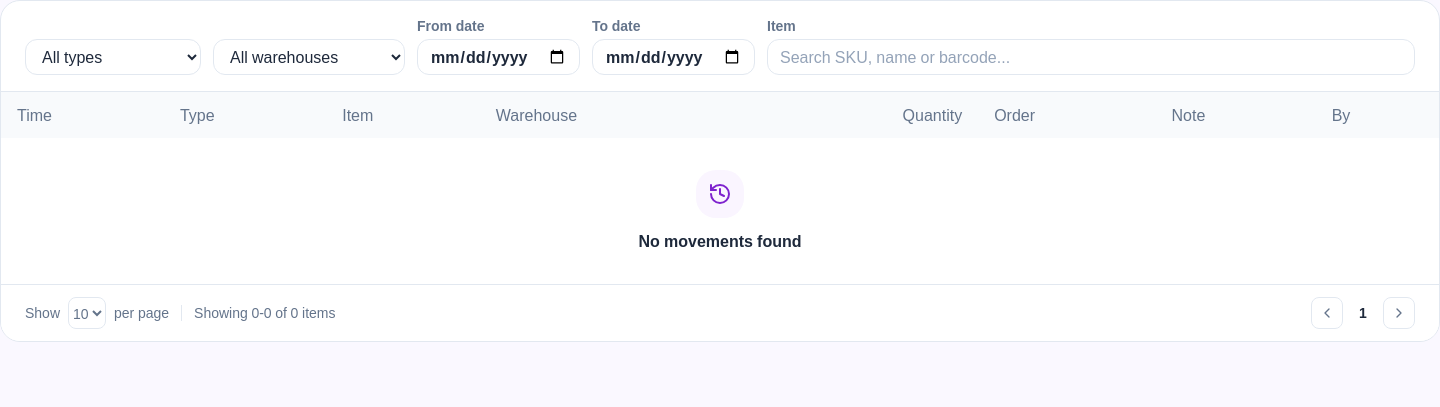
Test: StockMovements › ວ່າງ ແລະ ບໍ່ມີ filter: 'ບໍ່ພົບການເຄື່ອນໄຫວ' ບໍ່ມີປຸ່ມລ້າງ; ມີ filter: ມີປຸ່ມລ້າງທີ່ລ້າງທັນທີ
expect the text "No movements found" is shown: met, box x1=638 y1=230 x2=802 y2=252
expect the button "Clear search" is not shown: met
Select "Ship" in the dropdown named "Type" at (113, 57), box x1=25 y1=39 x2=201 y2=75
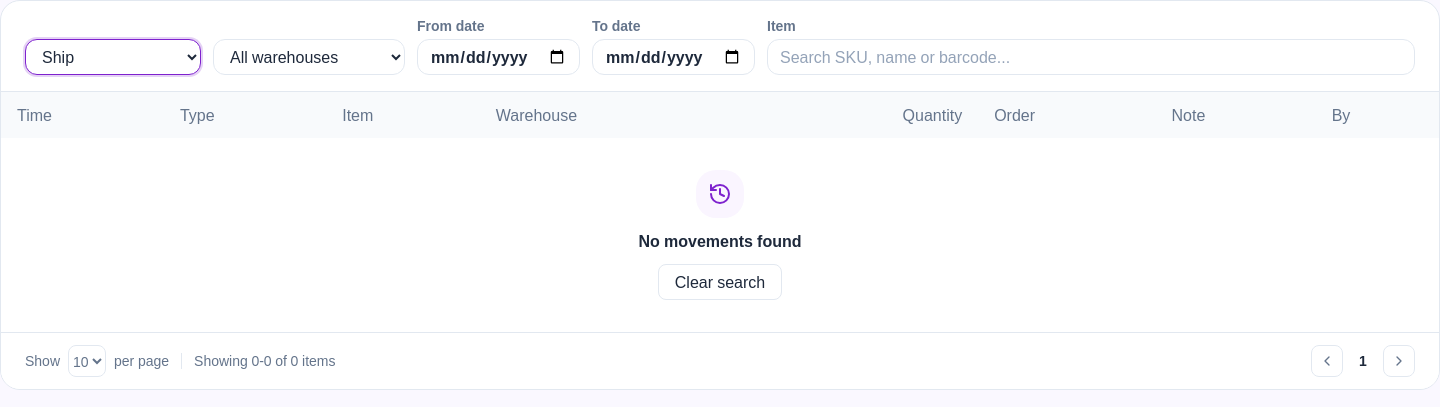
Type "2026-10-01" into the date field labelled "From date" at (498, 57), box x1=417 y1=39 x2=580 y2=75
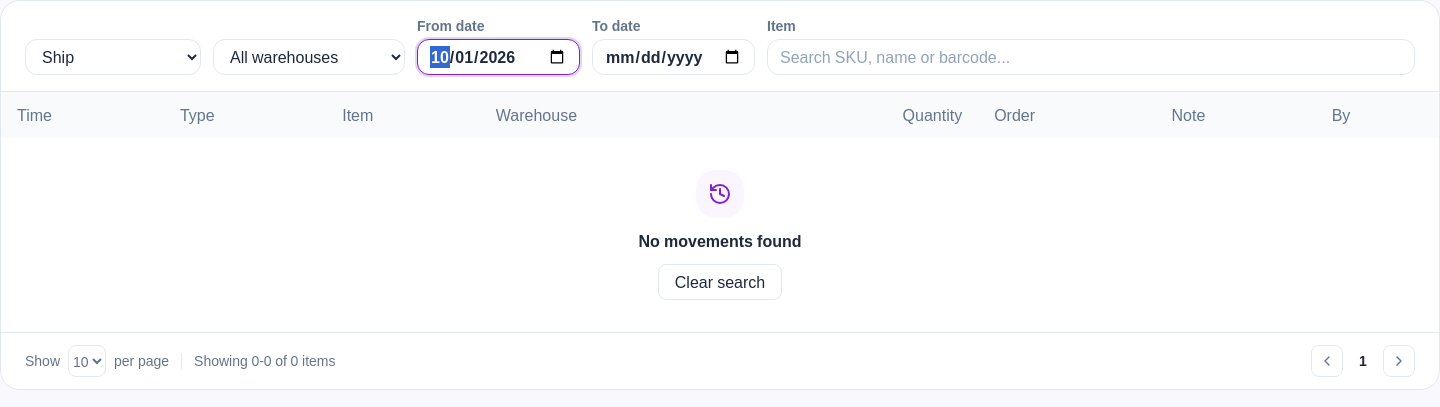
Click the button "Clear search" at (720, 282), box x1=658 y1=264 x2=782 y2=300
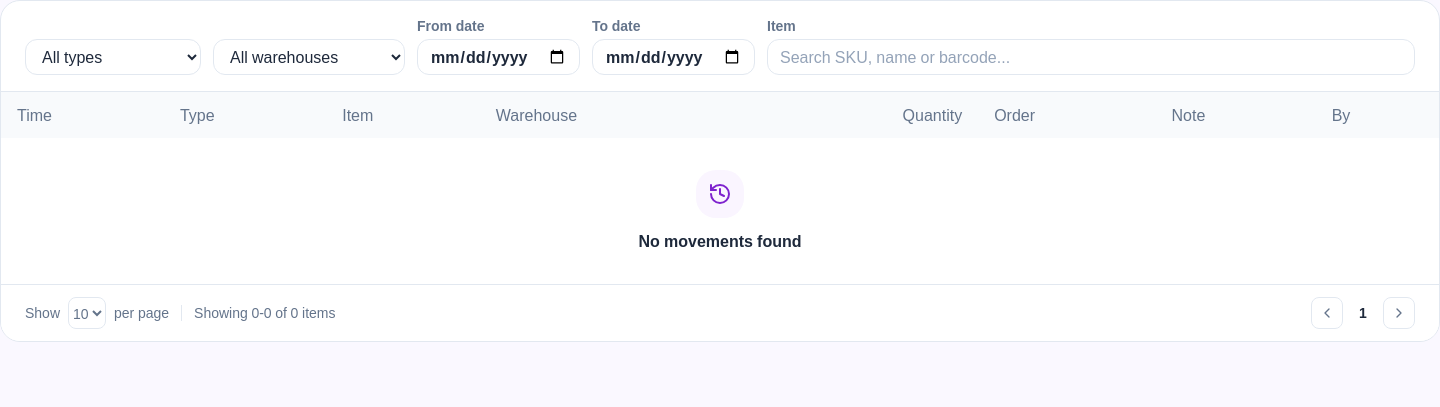
expect the date field labelled "From date" is empty: met, box x1=417 y1=39 x2=580 y2=75
